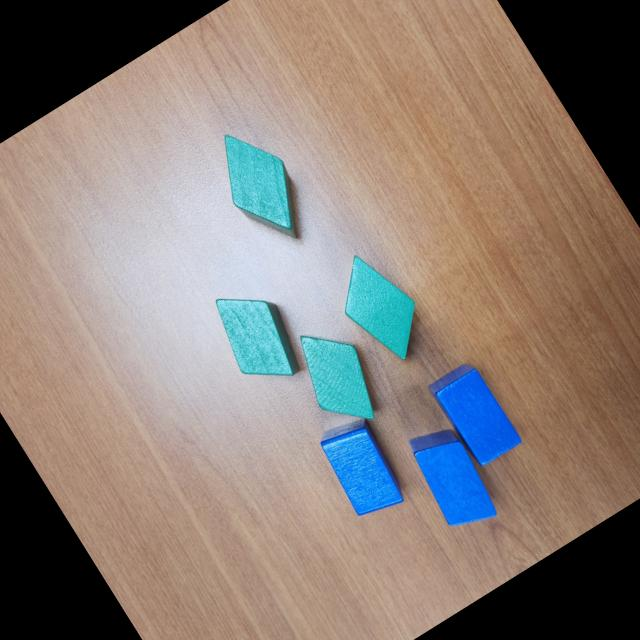blue: (398, 415, 504, 539), (310, 408, 413, 526), (426, 357, 524, 470)
green: (199, 115, 322, 258), (321, 240, 438, 374), (282, 312, 394, 439), (201, 274, 313, 398)
